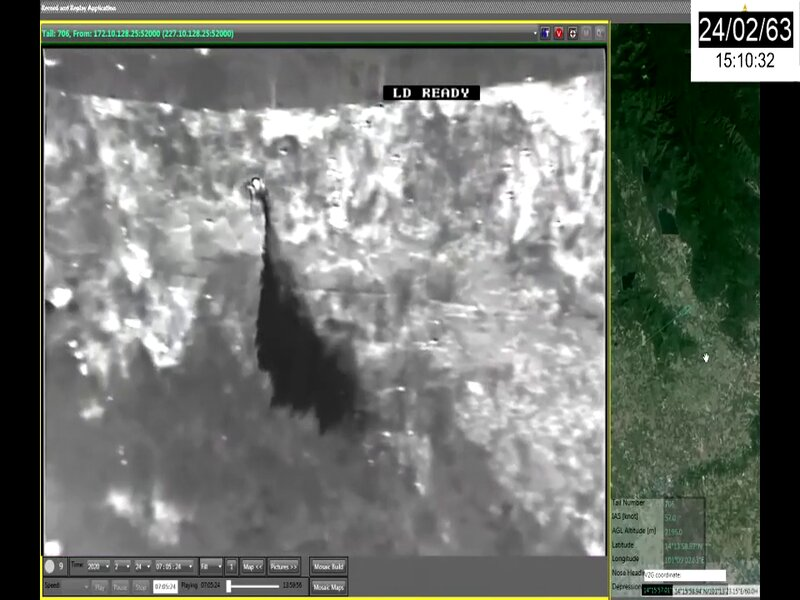Fire: (261, 78, 604, 301)
